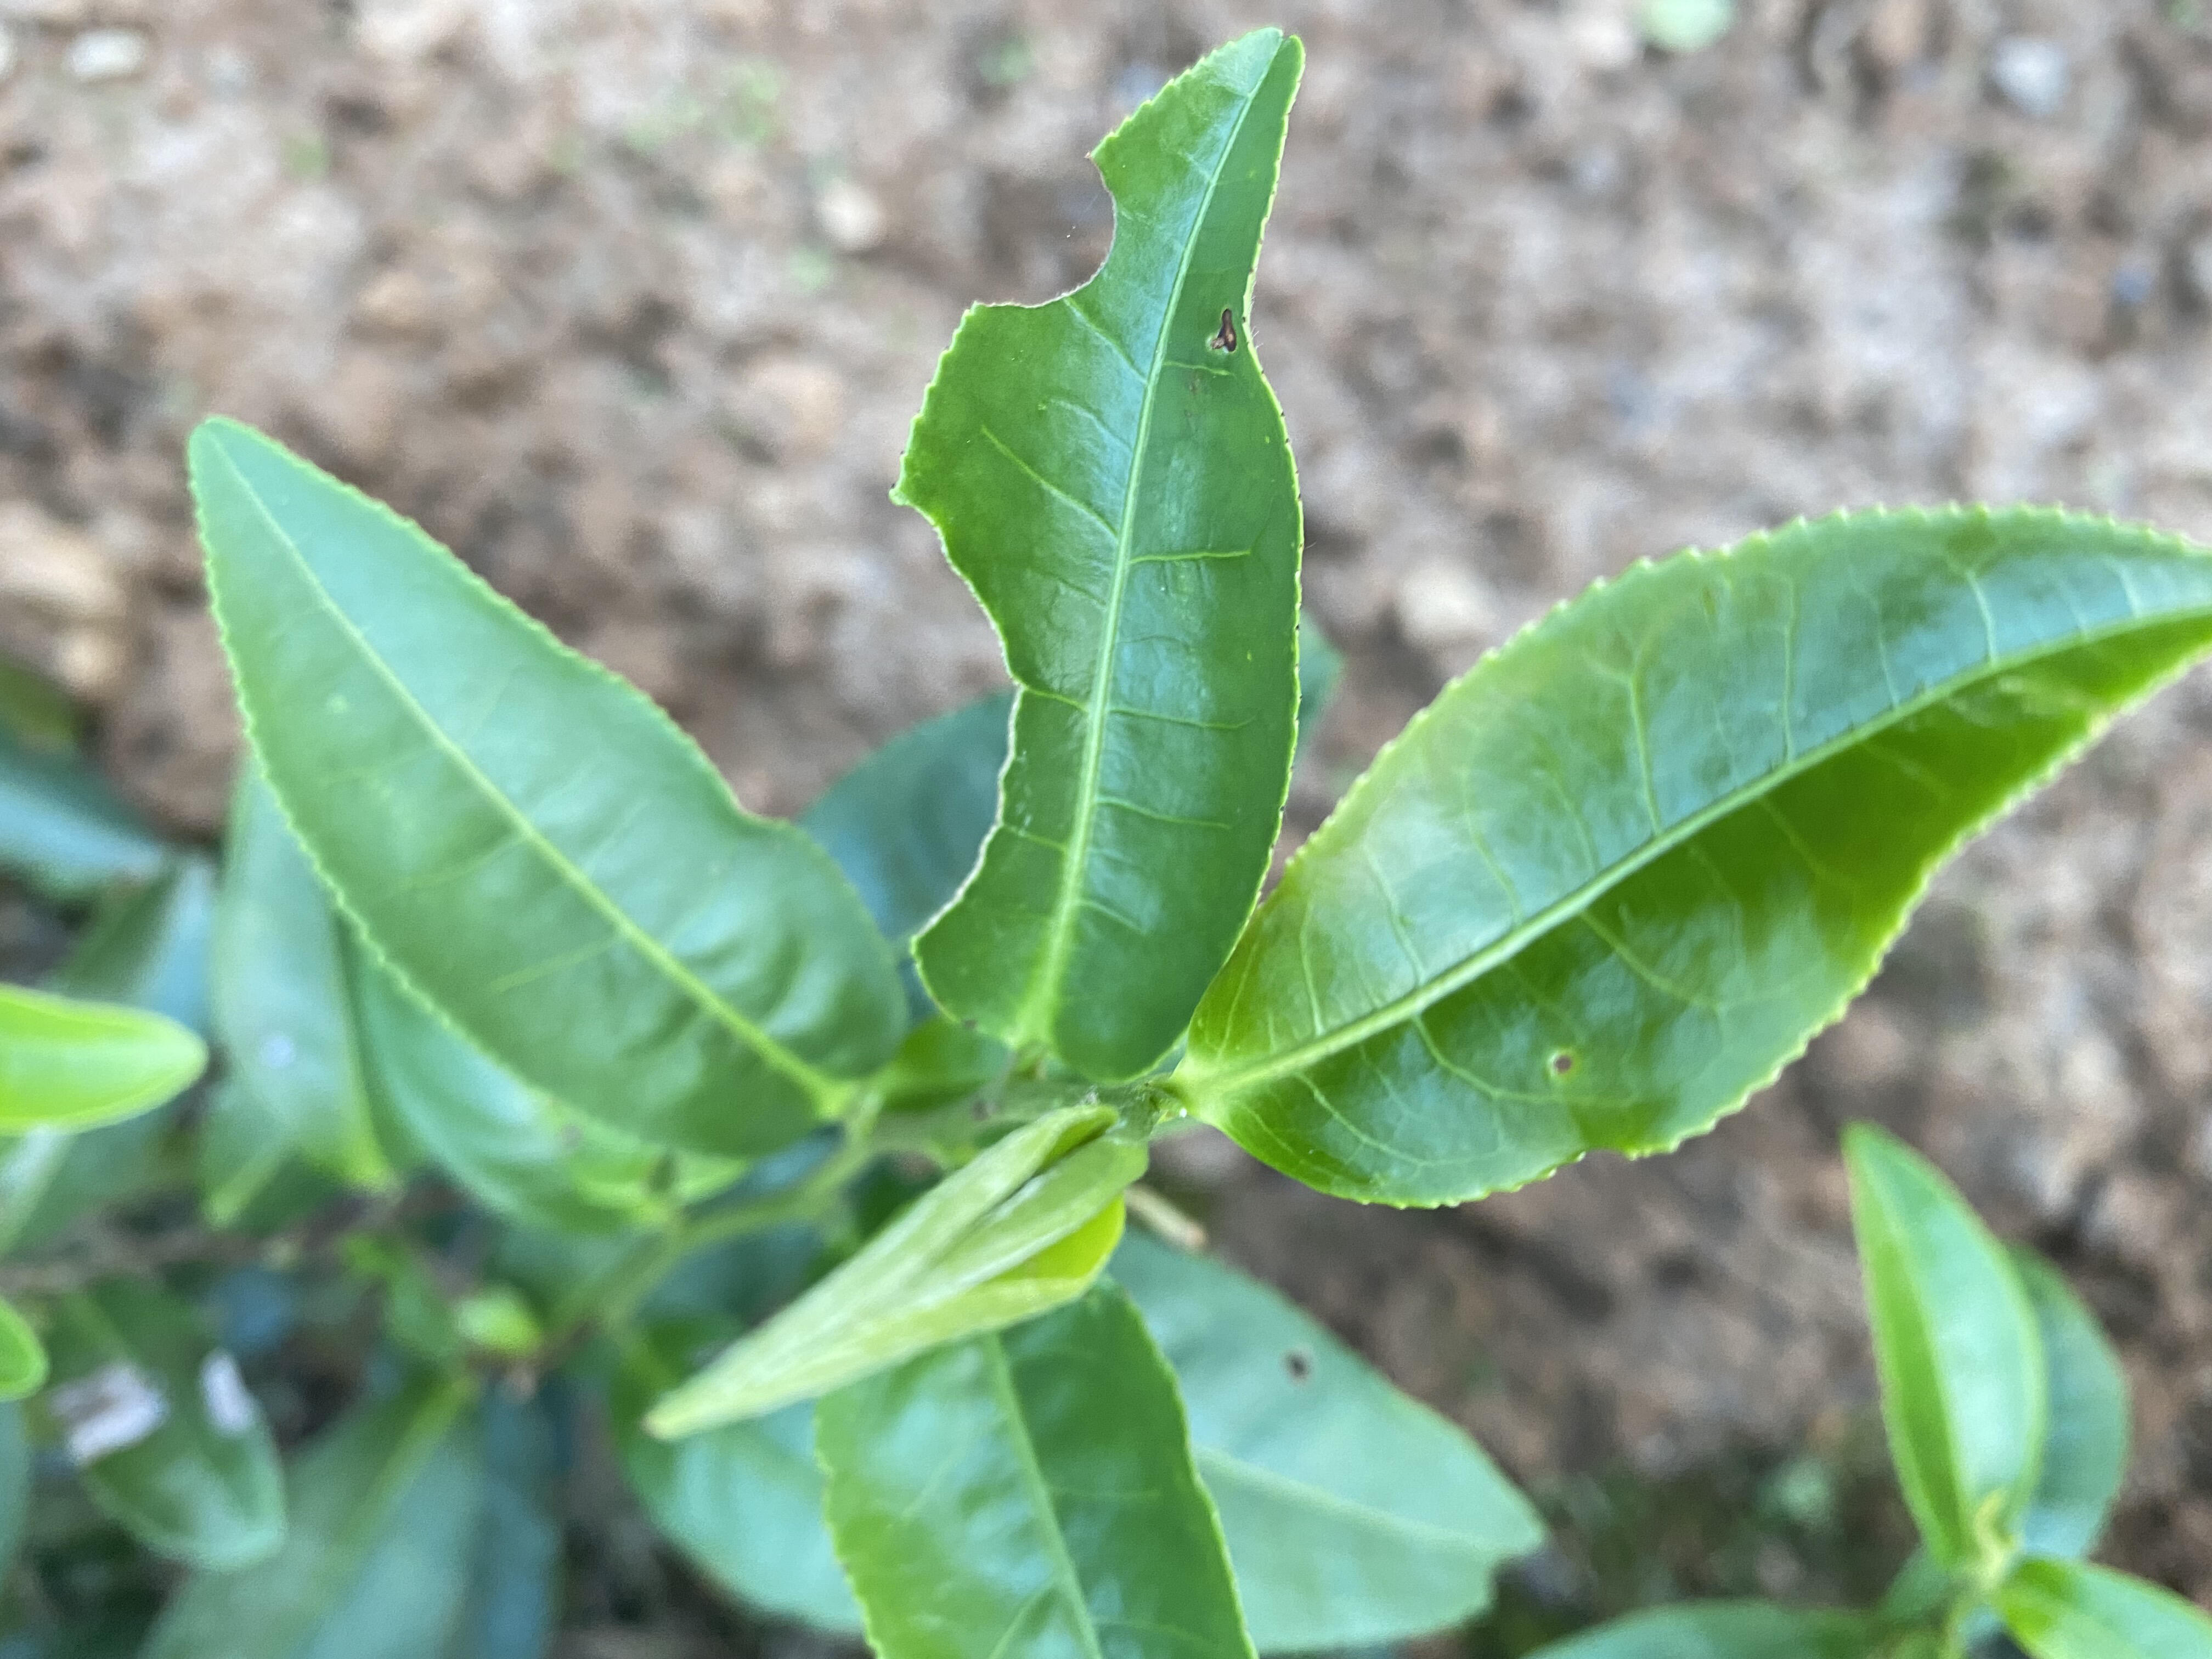chihuo_high: (888, 24, 1303, 1082)
chihuo_low: (1177, 498, 2212, 1215)
healthy: (186, 416, 911, 1162)
